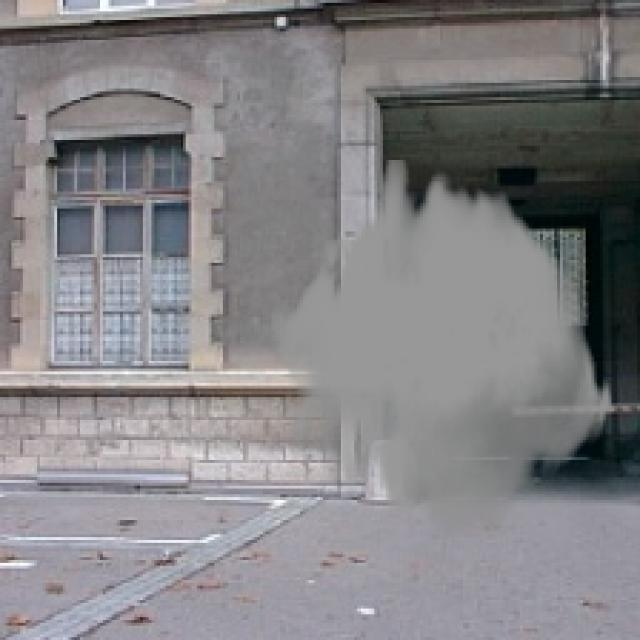Smoke: (268, 160, 614, 537)
